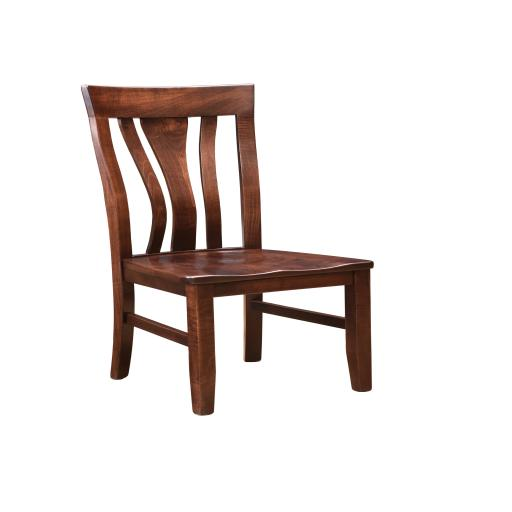chair: (64, 77, 400, 422)
